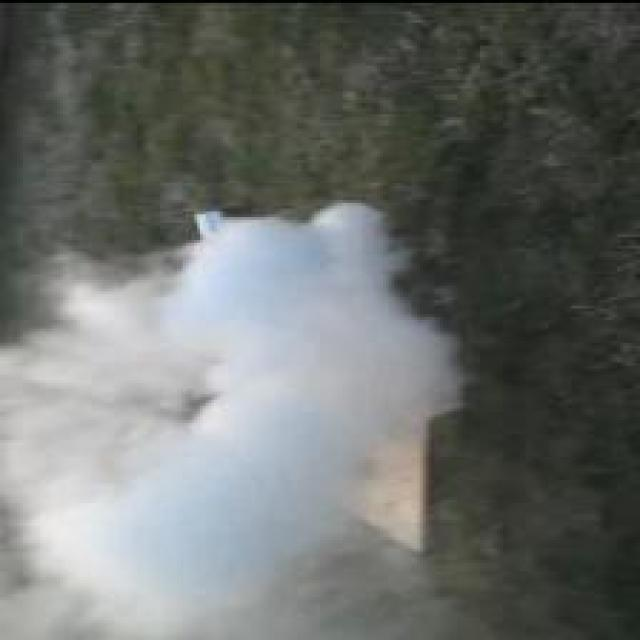Smoke: (3, 197, 463, 640)
